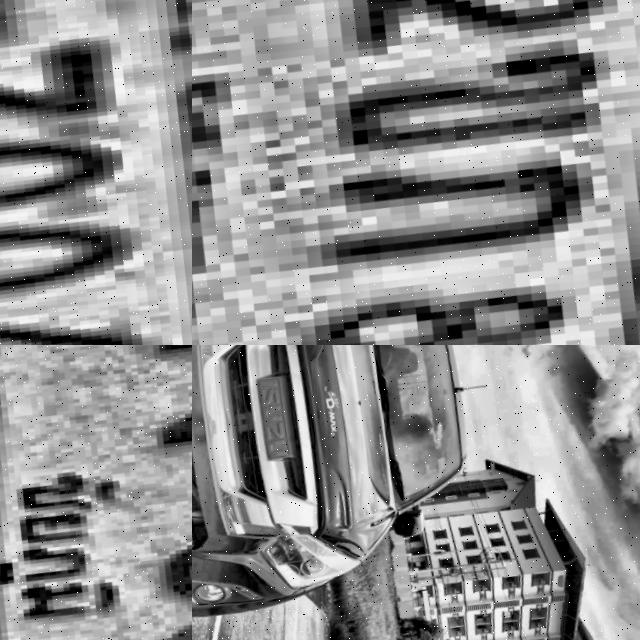license-plate: (192, 0, 640, 345), (0, 0, 192, 345), (0, 345, 192, 640)
